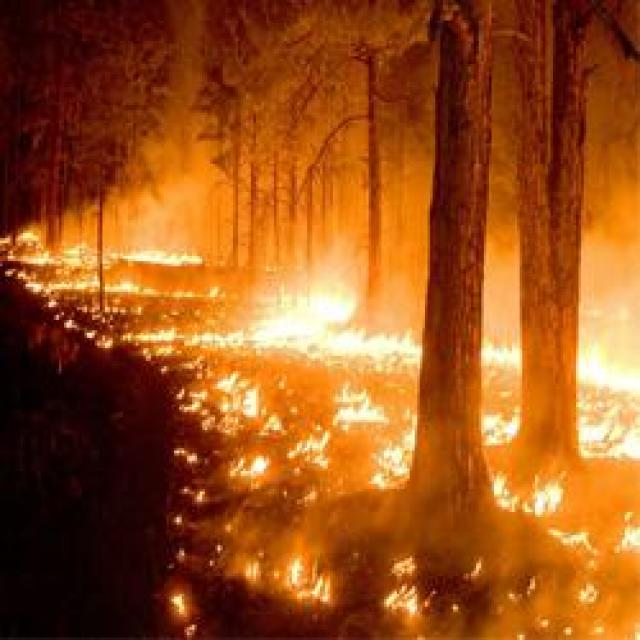fire: (236, 285, 383, 350), (573, 334, 638, 455), (290, 430, 341, 469), (373, 438, 410, 491), (362, 329, 419, 362), (334, 390, 380, 430), (480, 339, 520, 371), (534, 482, 562, 519), (483, 414, 517, 444), (388, 586, 421, 615), (238, 390, 263, 419), (619, 517, 639, 551), (137, 330, 179, 346)
smoke: (114, 142, 229, 261), (588, 546, 640, 640)
